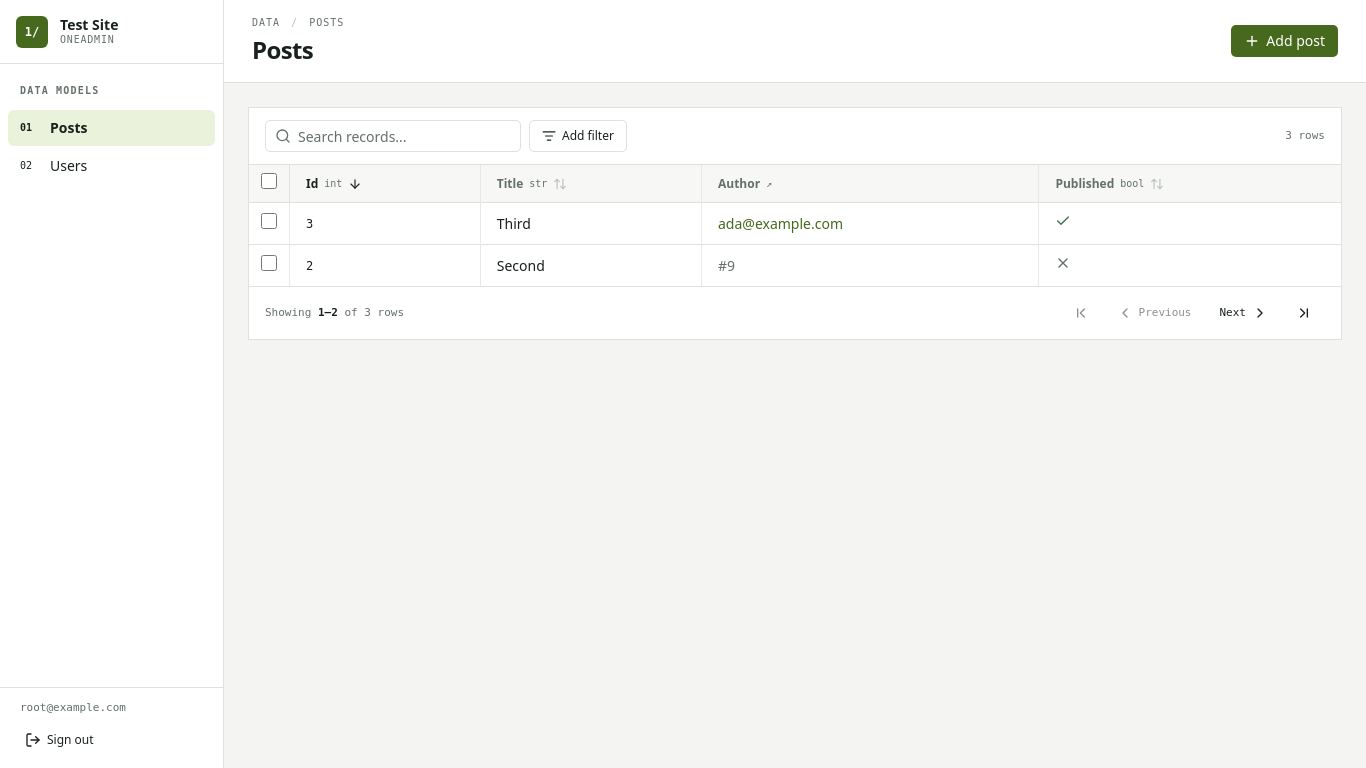
Test: deleting and actions › runs a bulk action on the selected rows
Click the checkbox named "Select row 2". click: (269, 263)
box: [261, 255, 277, 271]
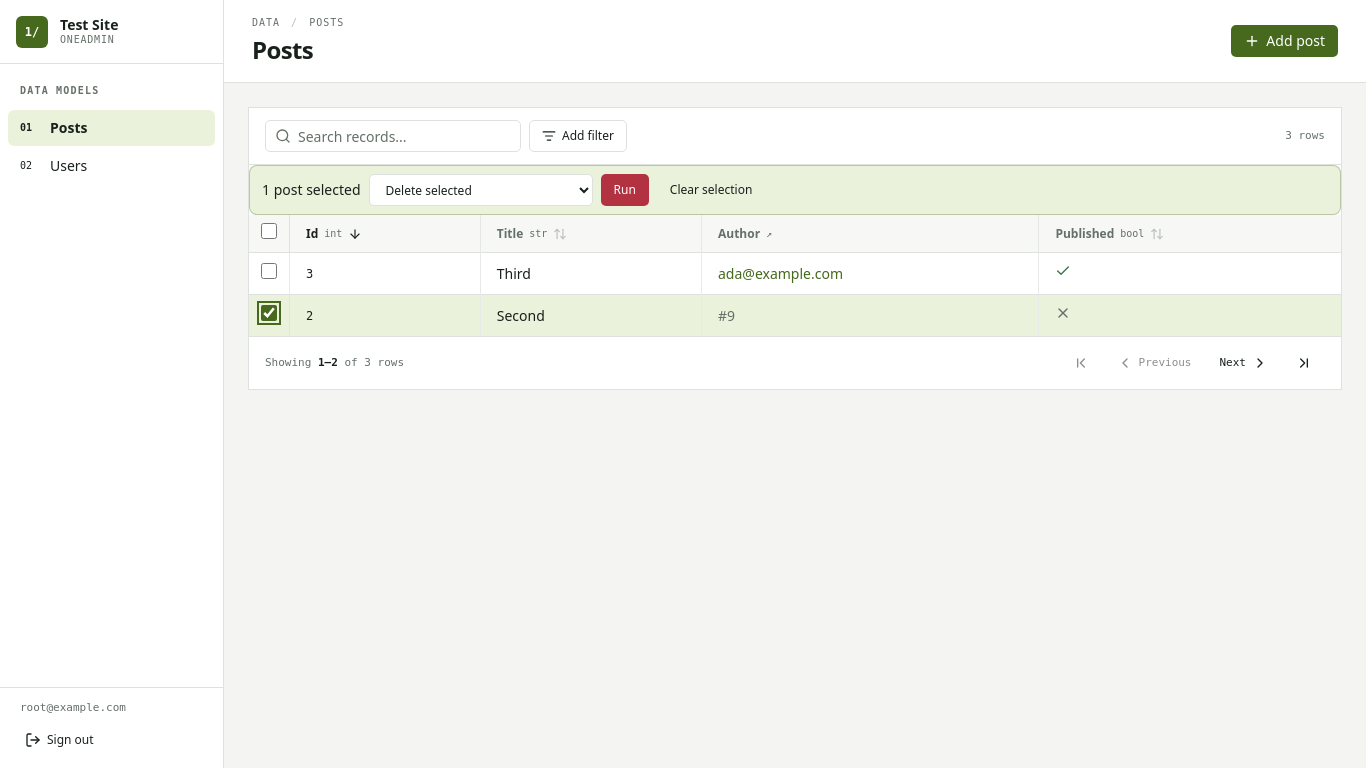
Now the text "1 post selected" is shown, box [262, 180, 360, 200]
Select "Publish" in the dropdown named "Action". click: (480, 190)
box: [368, 174, 592, 206]
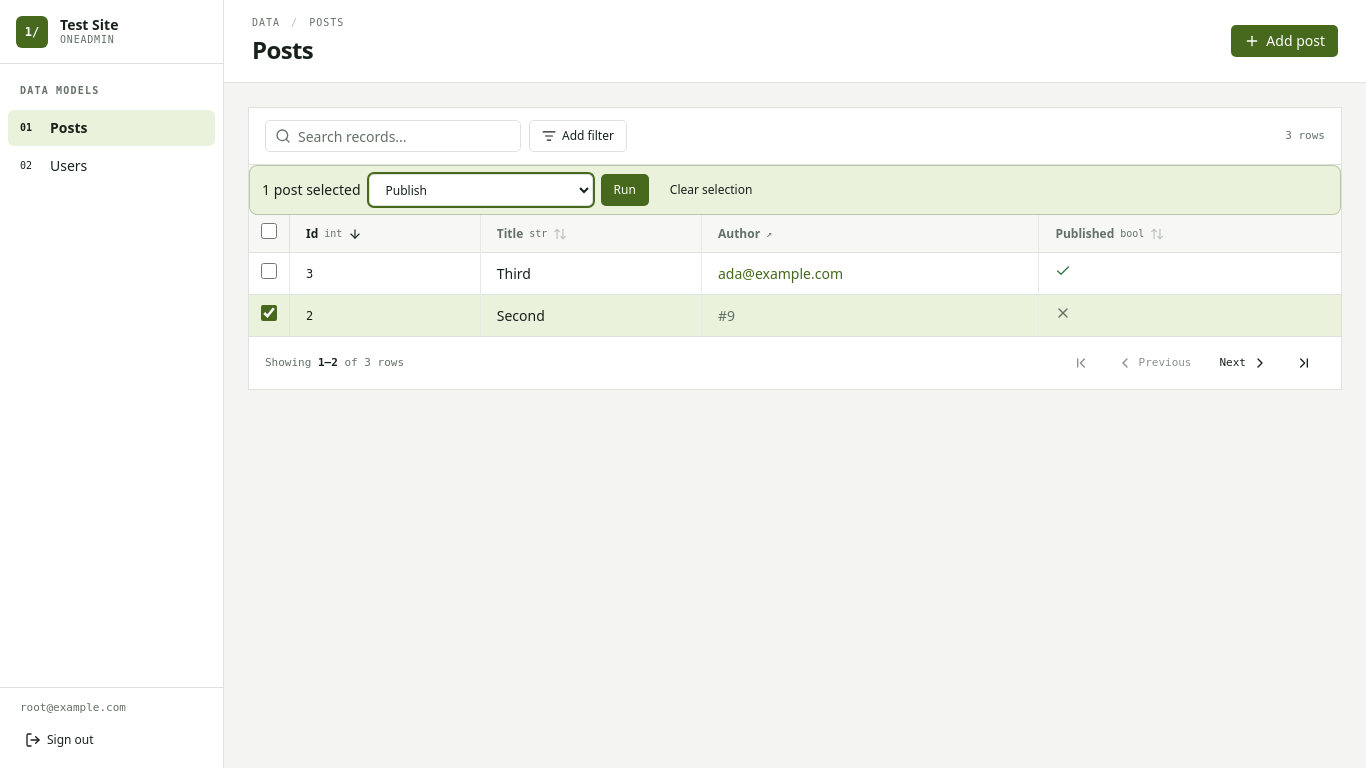
Click the button "Run". click: (625, 190)
box: [600, 174, 649, 206]
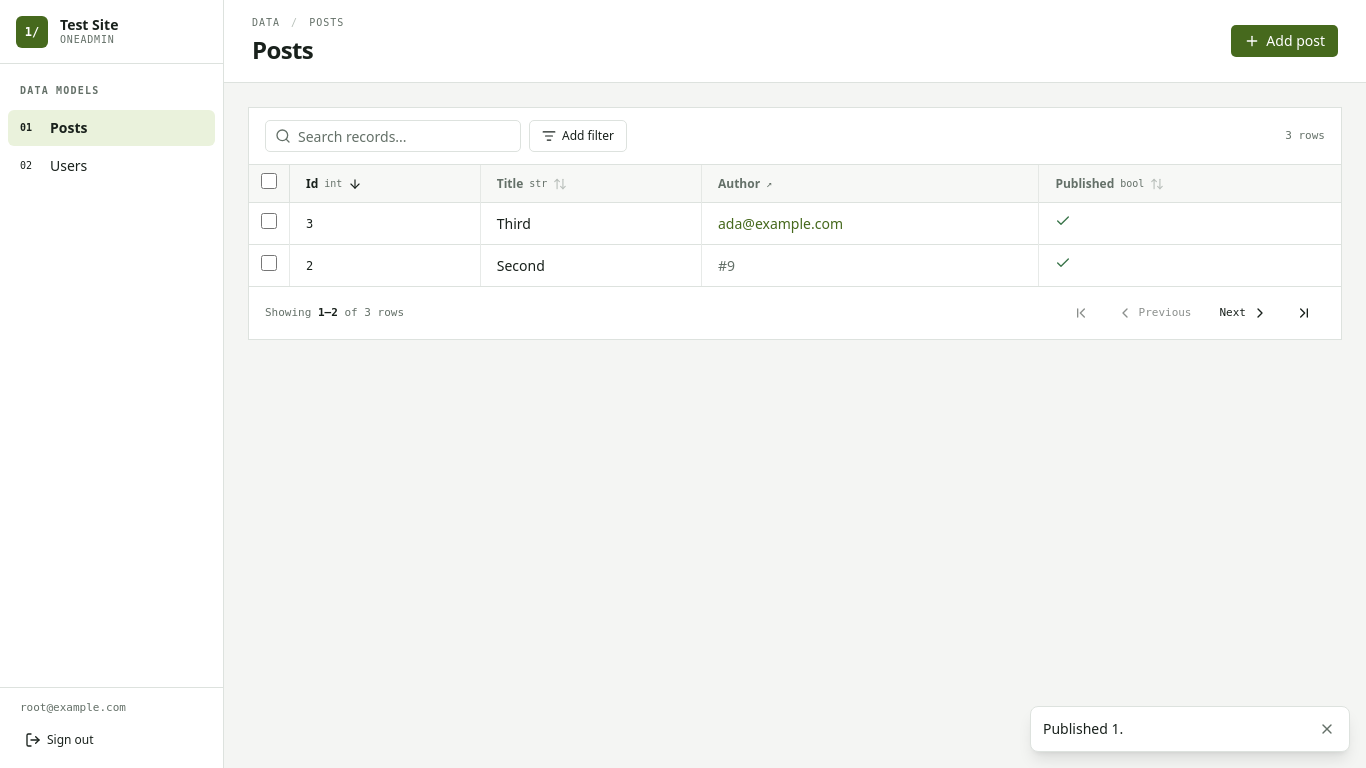
Now the text "Published 1." is shown, box [1043, 719, 1123, 738]
